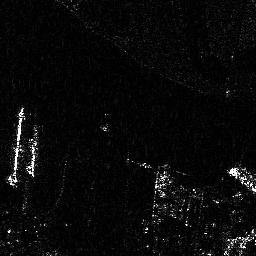ship: (5, 107, 25, 188), (25, 140, 42, 177)
